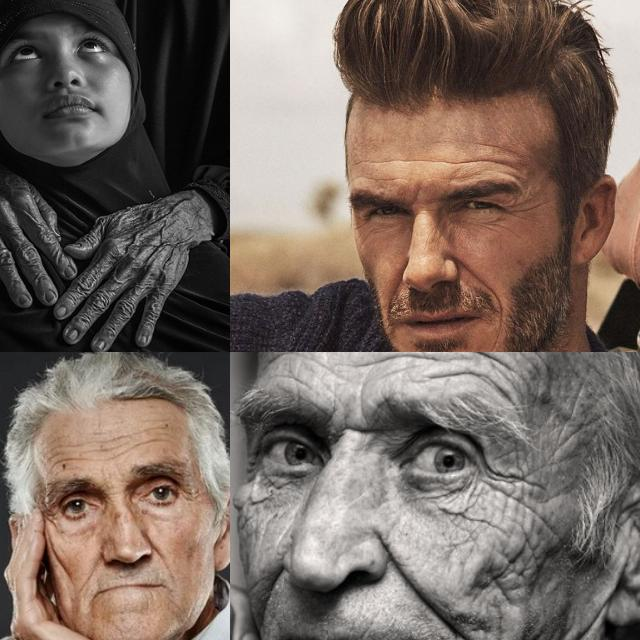bunny_line: (431, 220, 454, 246)
chin: (481, 343, 498, 352)
crows_feet: (483, 465, 523, 499), (176, 482, 198, 504), (505, 199, 527, 219), (43, 502, 61, 524), (242, 455, 255, 483), (354, 223, 372, 243)
forehead: (433, 352, 518, 398), (364, 154, 502, 172), (347, 352, 424, 374), (130, 422, 170, 451), (93, 438, 123, 462), (48, 448, 82, 466)
frown_line: (326, 419, 368, 449)
gummy_smile: (374, 530, 456, 622), (454, 256, 498, 294), (260, 564, 286, 618), (384, 275, 404, 309), (150, 538, 167, 562)
masseter: (492, 535, 546, 603), (574, 611, 604, 640), (51, 544, 69, 574), (524, 631, 565, 640)
sad_smile: (492, 304, 508, 336)
